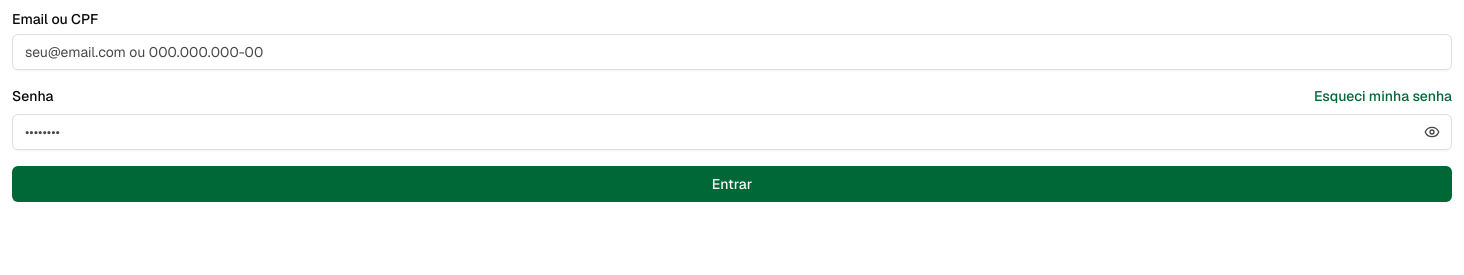
it: Página de Login › deve validar campos obrigatórios vazios
Click the button "Entrar". click: (732,184)
box: [12,166,1452,202]
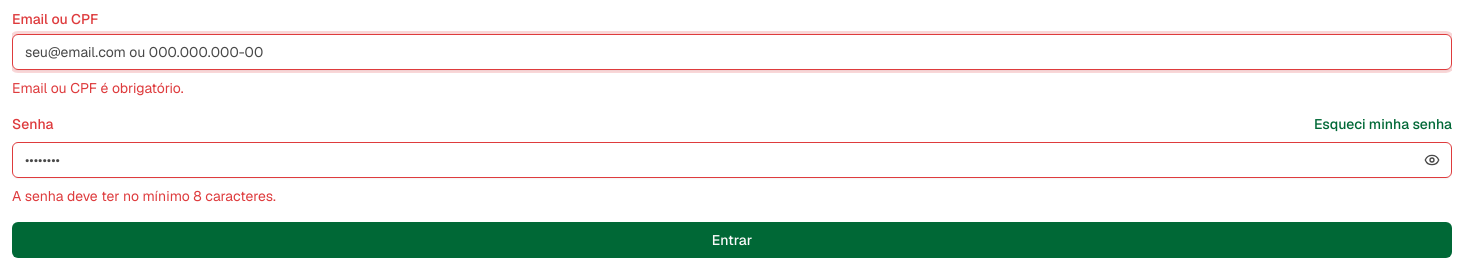
Result: the text "Email ou CPF é obrigatório." is shown at [12,79,184,97]
